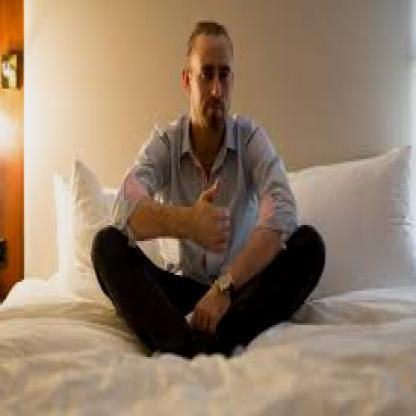Thumbs up: (186, 156, 234, 242)
